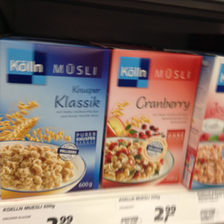cereal: (1, 39, 110, 200), (103, 41, 202, 189)
